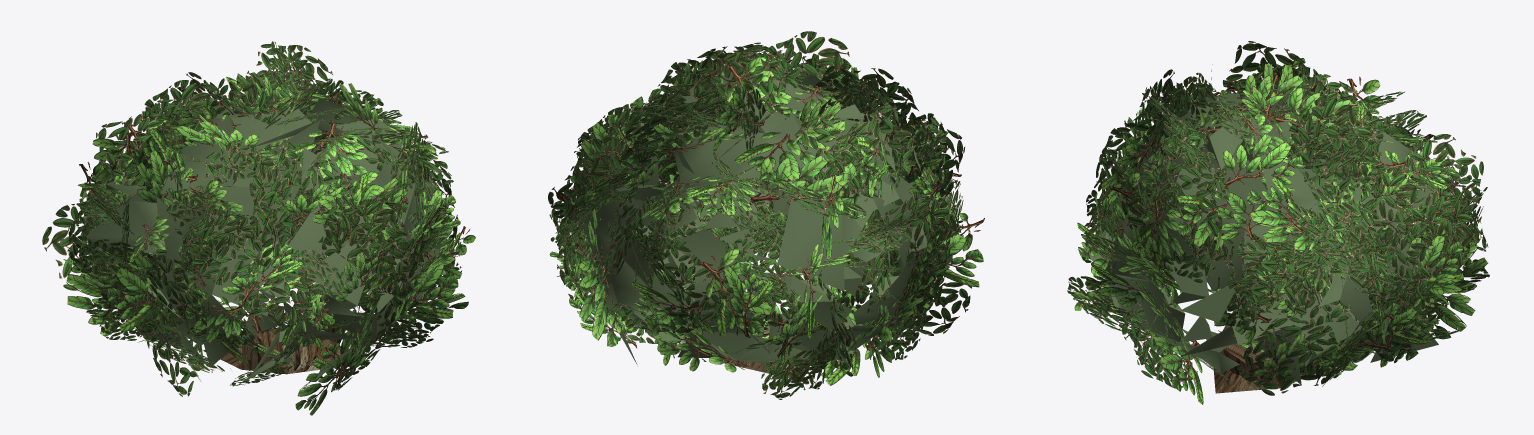
File: bush_1.glb
3 views of the same model, side by side, from view 1: azimuth 30°, elevation 25°; view 2: azimuth 150°, elevation 25°; view 3: azimuth 270°, elevation 25° (orthographic). The views are drawn at different scales.
Parts seen in each view (by area): view 1: Leaves, CrownCore, Trunk; view 2: Leaves, CrownCore; view 3: Leaves, CrownCore, Trunk.
Boxes of the visible parts, <box> form: Leaves: <box>42,41,475,415</box>; CrownCore: <box>83,91,451,385</box>; Trunk: <box>203,299,345,374</box>; Leaves: <box>548,31,984,399</box>; CrownCore: <box>579,72,952,364</box>; Leaves: <box>1067,41,1489,404</box>; CrownCore: <box>1084,86,1464,385</box>; Trunk: <box>1213,307,1315,393</box>.
Size of the model in its own units: 1.67 by 1.17 by 1.65.
Materials: 3 (2 with a texture image).
